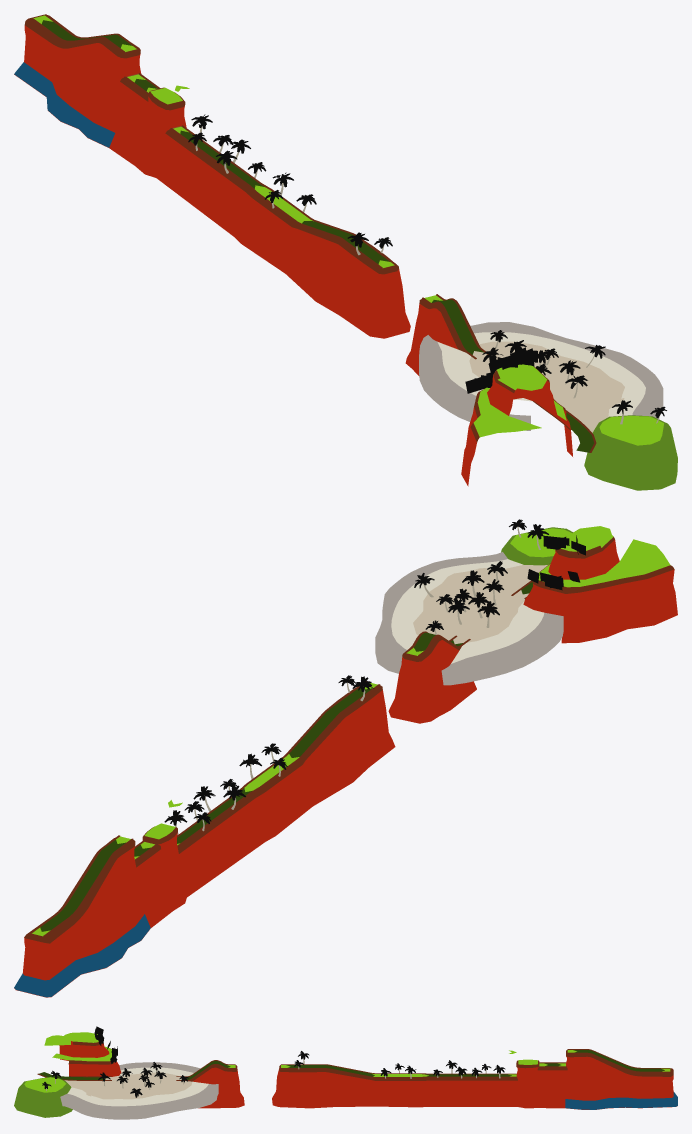
File: Chunk1.obj
3 views of the same model, one above another, from view 1: azimuth 30°, elevation 25°; view 2: azimuth 150°, elevation 25°; view 3: azimuth 270°, elevation 25° (orthographic). The views are drawn at different scales.
Size of the model in its own units: 1517 by 661 by 6720.
